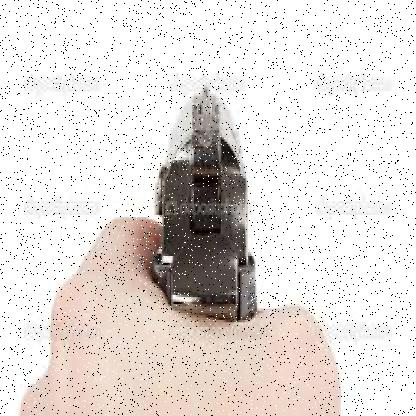pistol: (156, 98, 261, 322)
